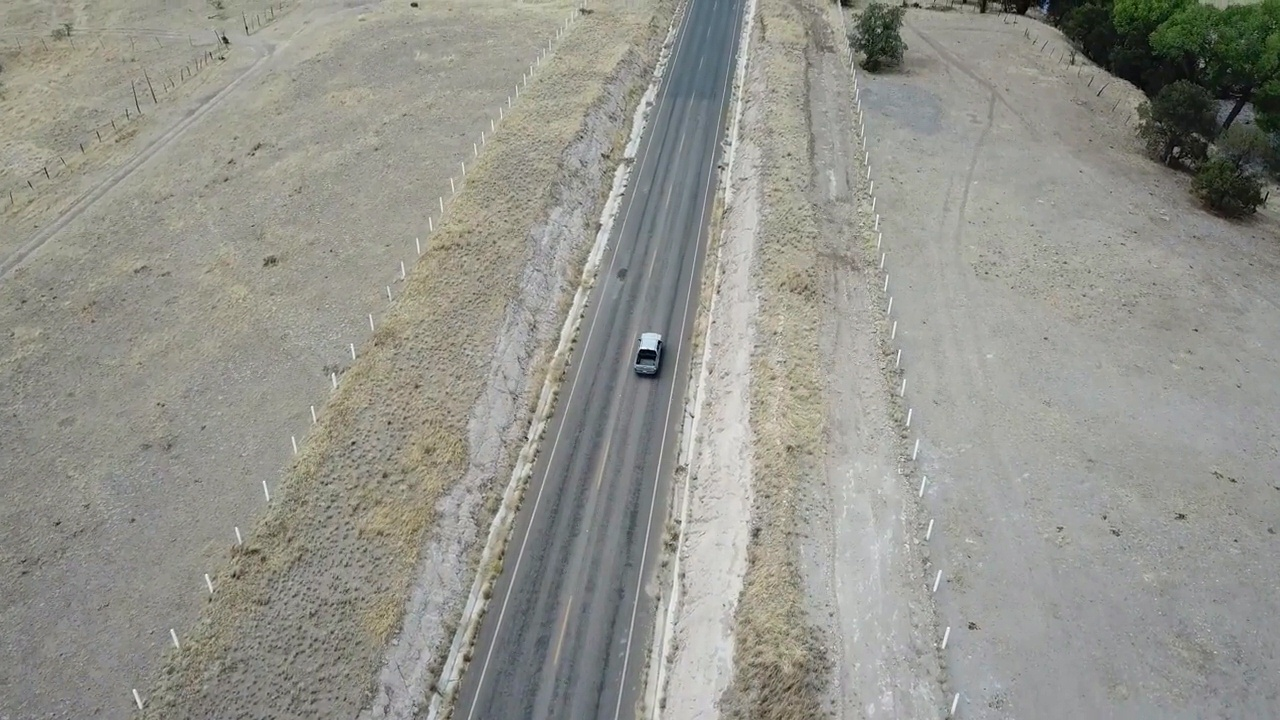araba: (633, 332, 664, 380)
